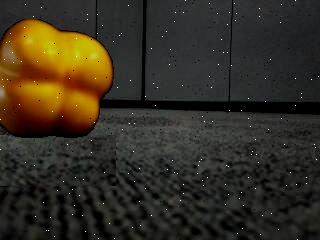Capsicum: (1, 20, 116, 140)
